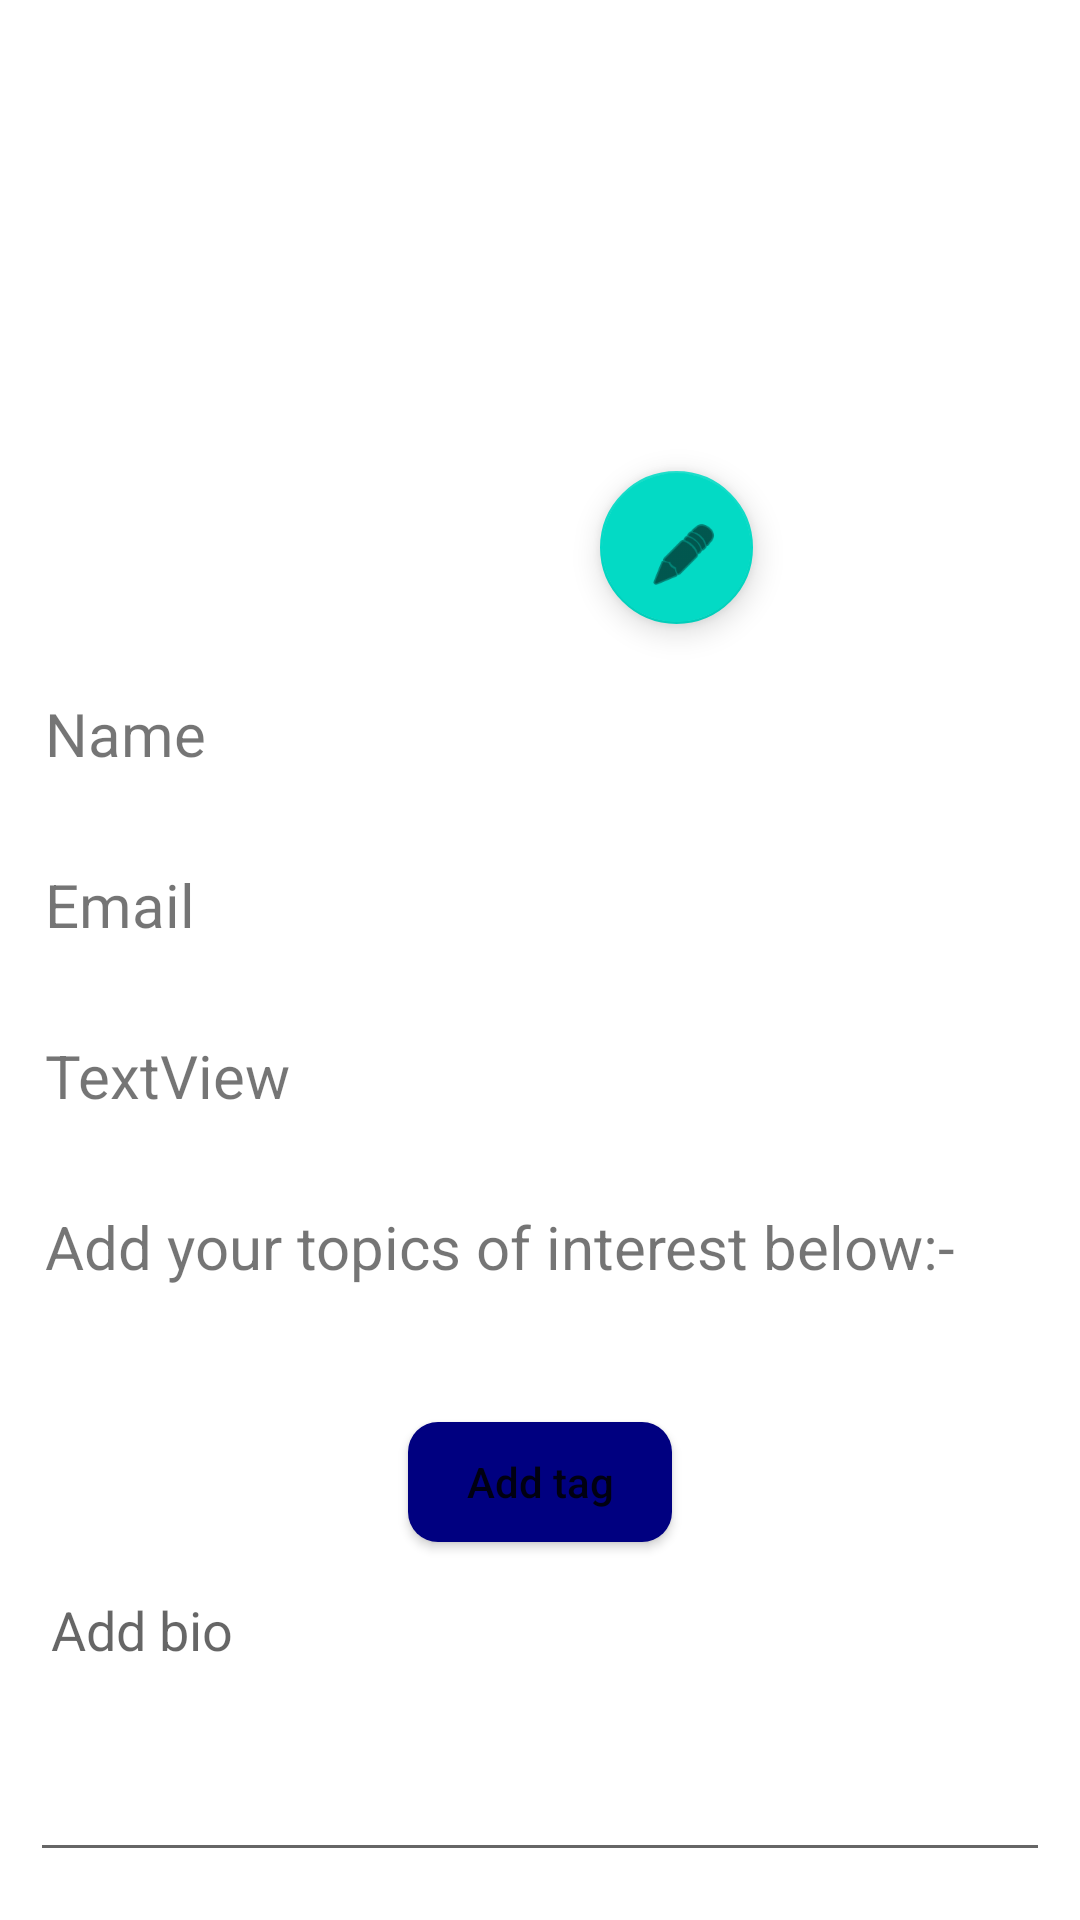

Icon bounding boxes for this 1080 × 1920 phone screenshot, format rect(x1, y1, x2, y2):
edit: rect(600, 471, 753, 624)
